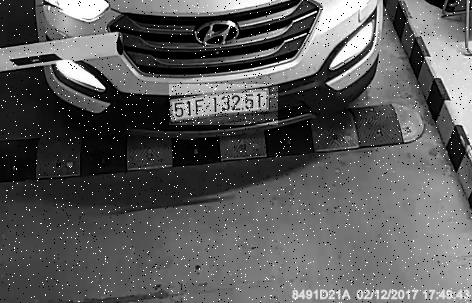License-plate: (171, 85, 281, 126)
